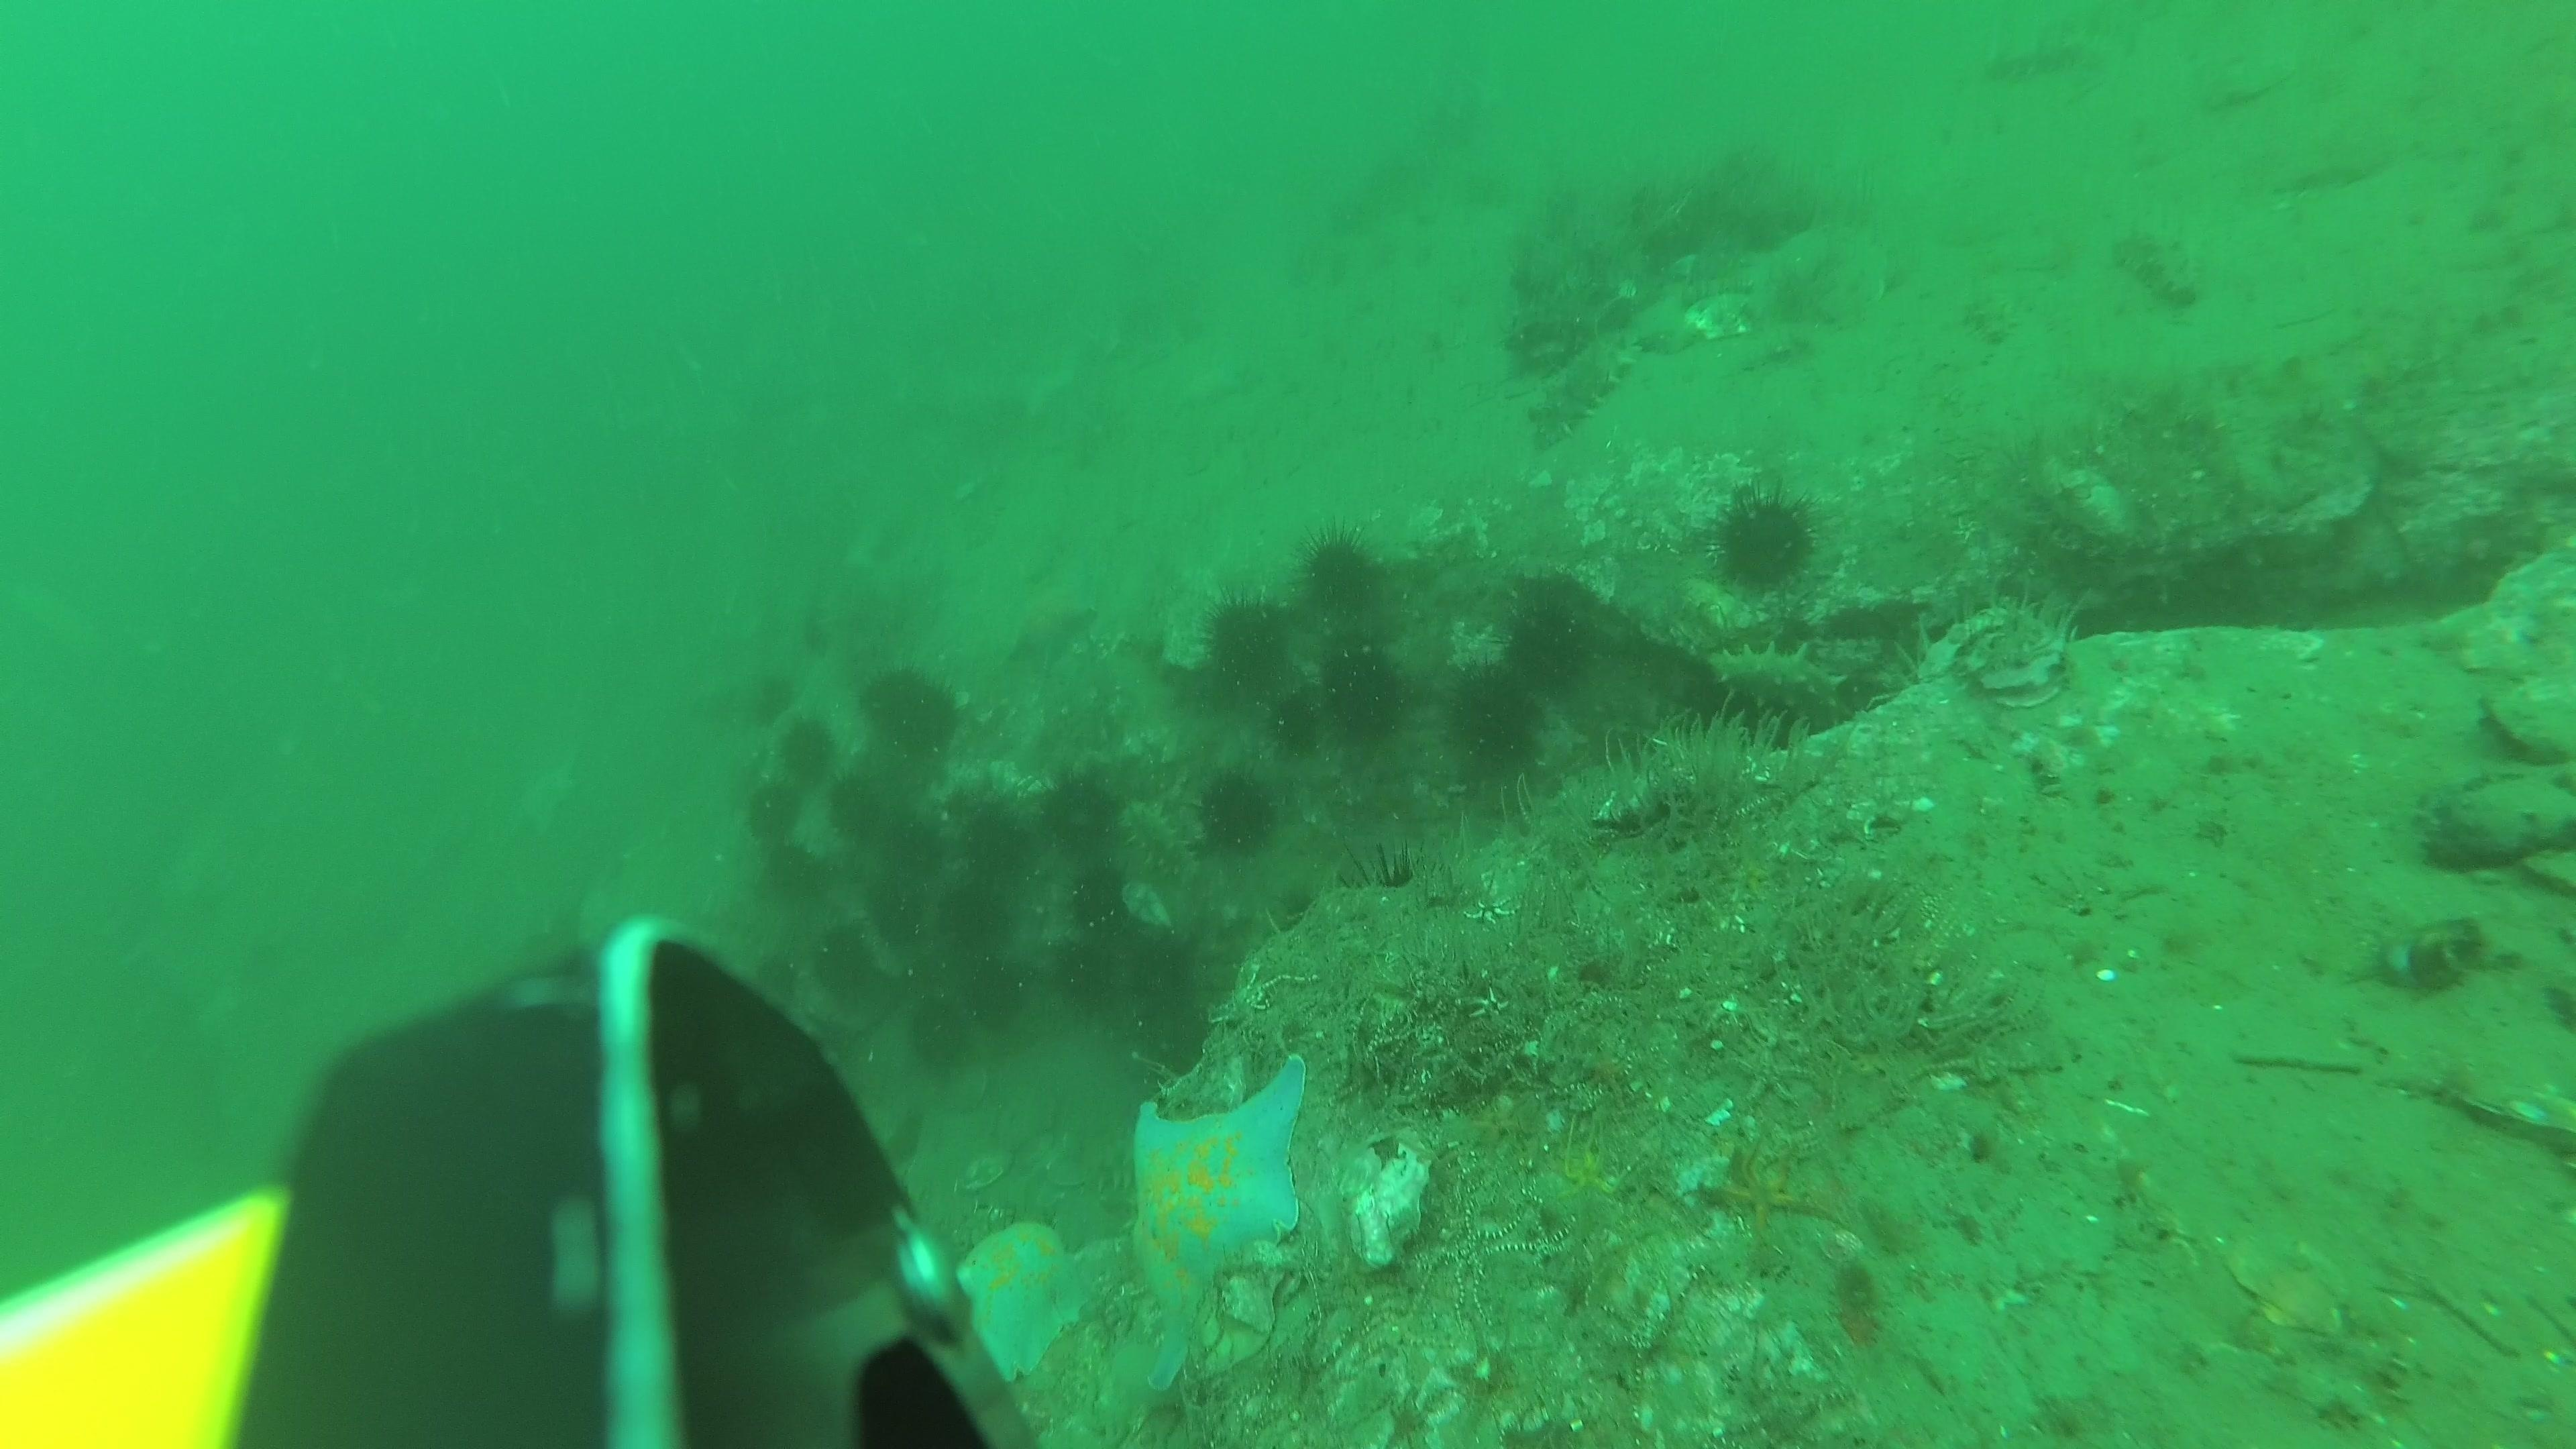echinus: (1709, 487, 1819, 594), (1447, 669, 1545, 782), (860, 662, 962, 761), (1201, 594, 1292, 702), (1502, 593, 1596, 692), (1322, 642, 1407, 743), (1299, 525, 1387, 617), (1194, 766, 1279, 858), (1040, 766, 1125, 856), (1042, 947, 1136, 1019), (957, 809, 1035, 892), (904, 989, 978, 1076), (938, 876, 1016, 957), (809, 920, 879, 1005), (768, 835, 842, 908), (741, 778, 821, 846), (957, 957, 1030, 1030), (1042, 867, 1113, 941), (1123, 932, 1196, 1003), (775, 713, 837, 784), (862, 879, 927, 945), (1269, 688, 1327, 757), (832, 782, 892, 840), (879, 819, 941, 872), (747, 665, 796, 729)
holothurian: (1702, 640, 1852, 734), (1527, 329, 1637, 449), (1502, 290, 1596, 379), (1982, 25, 2114, 87), (2112, 223, 2199, 311), (1118, 796, 1200, 881), (1962, 287, 2019, 347)
scallop: (1755, 214, 1886, 322), (2226, 1238, 2348, 1341), (2480, 678, 2574, 766), (2197, 44, 2295, 110)
starfish: (1122, 1058, 1320, 1380), (948, 1217, 1095, 1385), (1702, 1132, 1858, 1242), (1007, 593, 1097, 674), (1537, 1129, 1621, 1208)
